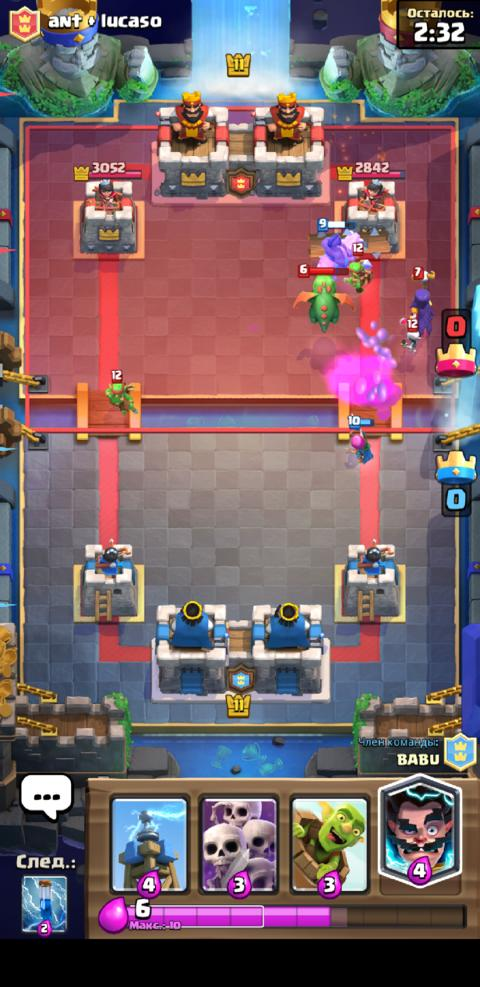ally_archer: (344, 414, 373, 465)
ally_hog_rider: (314, 218, 360, 274)
enemy_baby_dragon: (289, 262, 355, 333)
enemy_skeleton: (399, 318, 421, 356)
enemy_spear_goblin: (102, 368, 137, 417), (343, 242, 373, 293)
enemy_witch: (406, 264, 435, 338)
